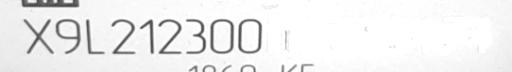letter: (20, 17, 54, 55), (350, 14, 380, 54), (108, 16, 138, 54), (464, 14, 492, 54), (54, 16, 82, 56), (264, 16, 292, 56), (438, 14, 466, 52), (236, 16, 264, 54), (156, 17, 184, 55), (324, 14, 350, 54), (406, 15, 434, 52), (294, 15, 320, 54), (208, 18, 234, 54), (82, 16, 106, 54), (183, 17, 207, 55), (382, 16, 402, 54), (138, 17, 156, 55)
